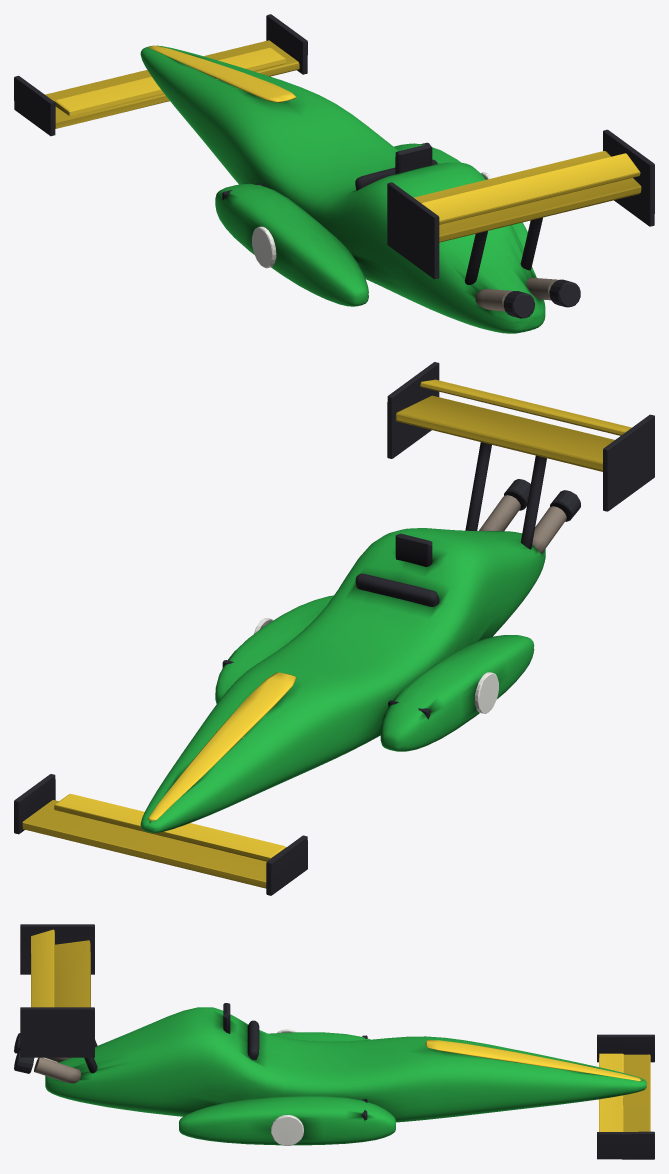
Rendered from kart_racer.glb.
The picture shows the model from 3 angles, top to bottom: view 1: azimuth 30°, elevation 25°; view 2: azimuth 150°, elevation 25°; view 3: azimuth 270°, elevation 25°; orthographic projection. The views are drawn at different scales.
Visible parts, largest first — view 1: Paint_body, Paint_pod, Accent_rearflap, Accent_rearwing, Trim_endplate.002, Accent_frontwing, Accent_flap, Accent_stripe, Trim_endplate.003, Trim_endplate, Trim_endplate.001, Trim_intake (+8 smaller); view 2: Paint_body, Paint_pod, Accent_rearwing, Accent_frontwing, Accent_stripe, Accent_flap, Trim_endplate.002, Paint_pod.001, Accent_rearflap, Trim_endplate.003, Trim_endplate, Trim_seatback (+7 smaller); view 3: Paint_body, Paint_pod.001, Trim_endplate.003, Accent_rearwing, Accent_stripe, Accent_rearflap, Accent_frontwing, Trim_endplate.002, Trim_endplate.001, Accent_flap, Trim_endplate, Plate_side.001 (+3 smaller).
Part boxes in pixels (left/top/right/bottom): Paint_body: left=140, top=45, right=545, bottom=333; Paint_pod: left=215, top=183, right=368, bottom=306; Accent_rearflap: left=421, top=153, right=640, bottom=224; Accent_rearwing: left=414, top=151, right=641, bottom=242; Trim_endplate.002: left=387, top=182, right=439, bottom=279; Accent_frontwing: left=45, top=40, right=299, bottom=128; Accent_flap: left=54, top=47, right=285, bottom=116; Accent_stripe: left=148, top=45, right=296, bottom=102; Trim_endplate.003: left=603, top=129, right=654, bottom=226; Trim_endplate: left=14, top=75, right=55, bottom=136; Trim_endplate.001: left=266, top=14, right=307, bottom=74; Trim_intake: left=395, top=144, right=432, bottom=173; Paint_body: left=140, top=528, right=545, bottom=832; Paint_pod: left=380, top=635, right=534, bottom=751; Accent_rearwing: left=395, top=395, right=614, bottom=471; Accent_frontwing: left=22, top=800, right=266, bottom=888; Accent_stripe: left=148, top=672, right=296, bottom=821; Accent_flap: left=54, top=793, right=286, bottom=861; Trim_endplate.002: left=603, top=414, right=654, bottom=511; Paint_pod.001: left=215, top=595, right=333, bottom=703; Accent_rearflap: left=420, top=379, right=631, bottom=435; Trim_endplate.003: left=387, top=362, right=439, bottom=458; Trim_endplate: left=266, top=835, right=307, bottom=895; Trim_seatback: left=355, top=573, right=439, bottom=606; Paint_body: left=45, top=1007, right=646, bottom=1122; Paint_pod.001: left=179, top=1096, right=395, bottom=1145; Trim_endplate.003: left=20, top=1007, right=94, bottom=1057; Accent_rearwing: left=55, top=940, right=90, bottom=1007; Accent_stripe: left=425, top=1040, right=642, bottom=1081; Accent_rearflap: left=31, top=929, right=54, bottom=1007; Accent_frontwing: left=623, top=1054, right=650, bottom=1131; Trim_endplate.002: left=20, top=924, right=94, bottom=974; Trim_endplate.001: left=597, top=1131, right=654, bottom=1159; Accent_flap: left=599, top=1053, right=623, bottom=1131; Trim_endplate: left=597, top=1034, right=654, bottom=1062; Plate_side.001: left=271, top=1115, right=303, bottom=1145.
Bounding box in the file's own units: 1.12 × 0.7587 × 3.07.
